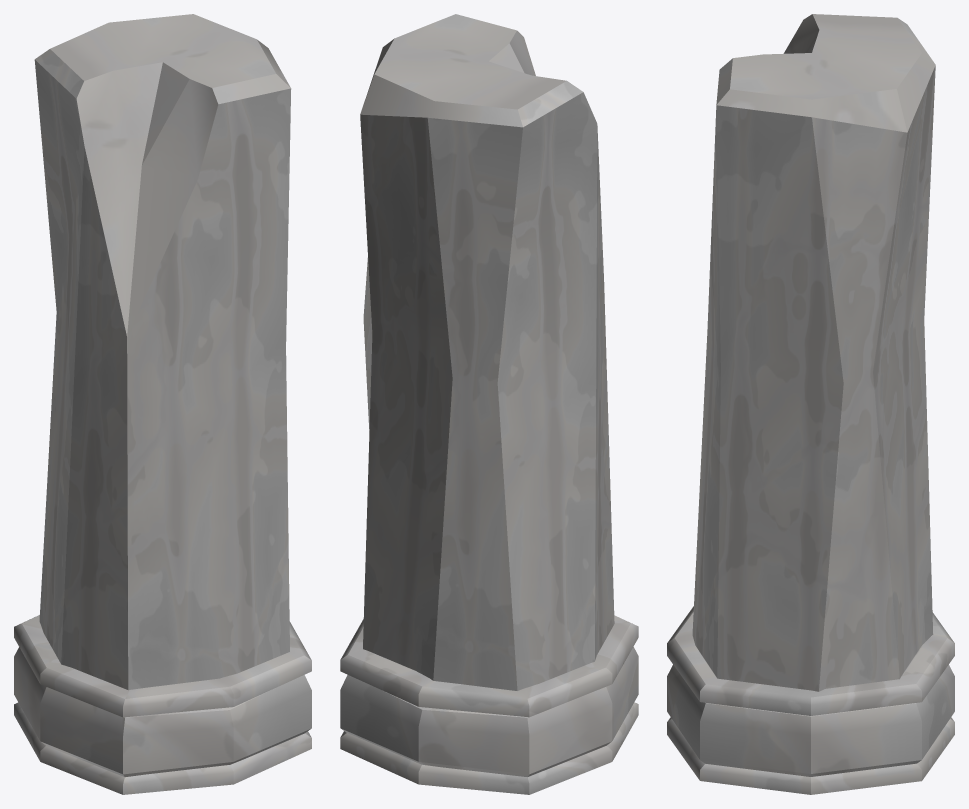
Rendered from Pillar_Big.fbx.
3 renders of one model, left to right at view 1: azimuth 30°, elevation 25°; view 2: azimuth 150°, elevation 25°; view 3: azimuth 270°, elevation 25°, orthographic.
Parts seen in each view (by area): view 1: Pillar_Big13; view 2: Pillar_Big13; view 3: Pillar_Big13.
Part boxes in pixels (x1,y1,x2,y2): Pillar_Big13: (14,14,311,794); Pillar_Big13: (340,14,638,794); Pillar_Big13: (667,14,954,794).
Bounding box in the file's own units: 149 × 395 × 149.
